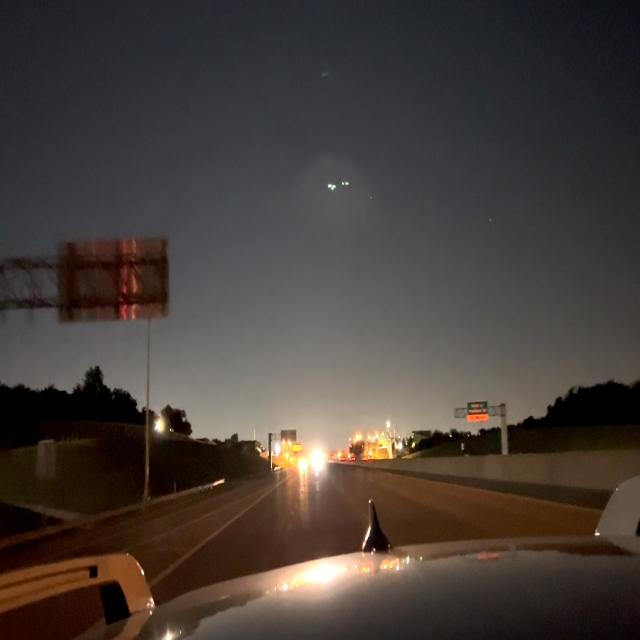back-of-sign: (56, 236, 169, 323)
